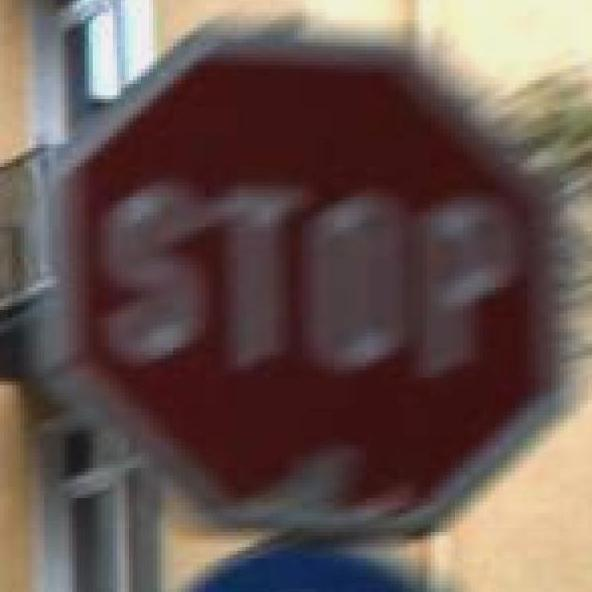stop_sign: (36, 12, 564, 540)
